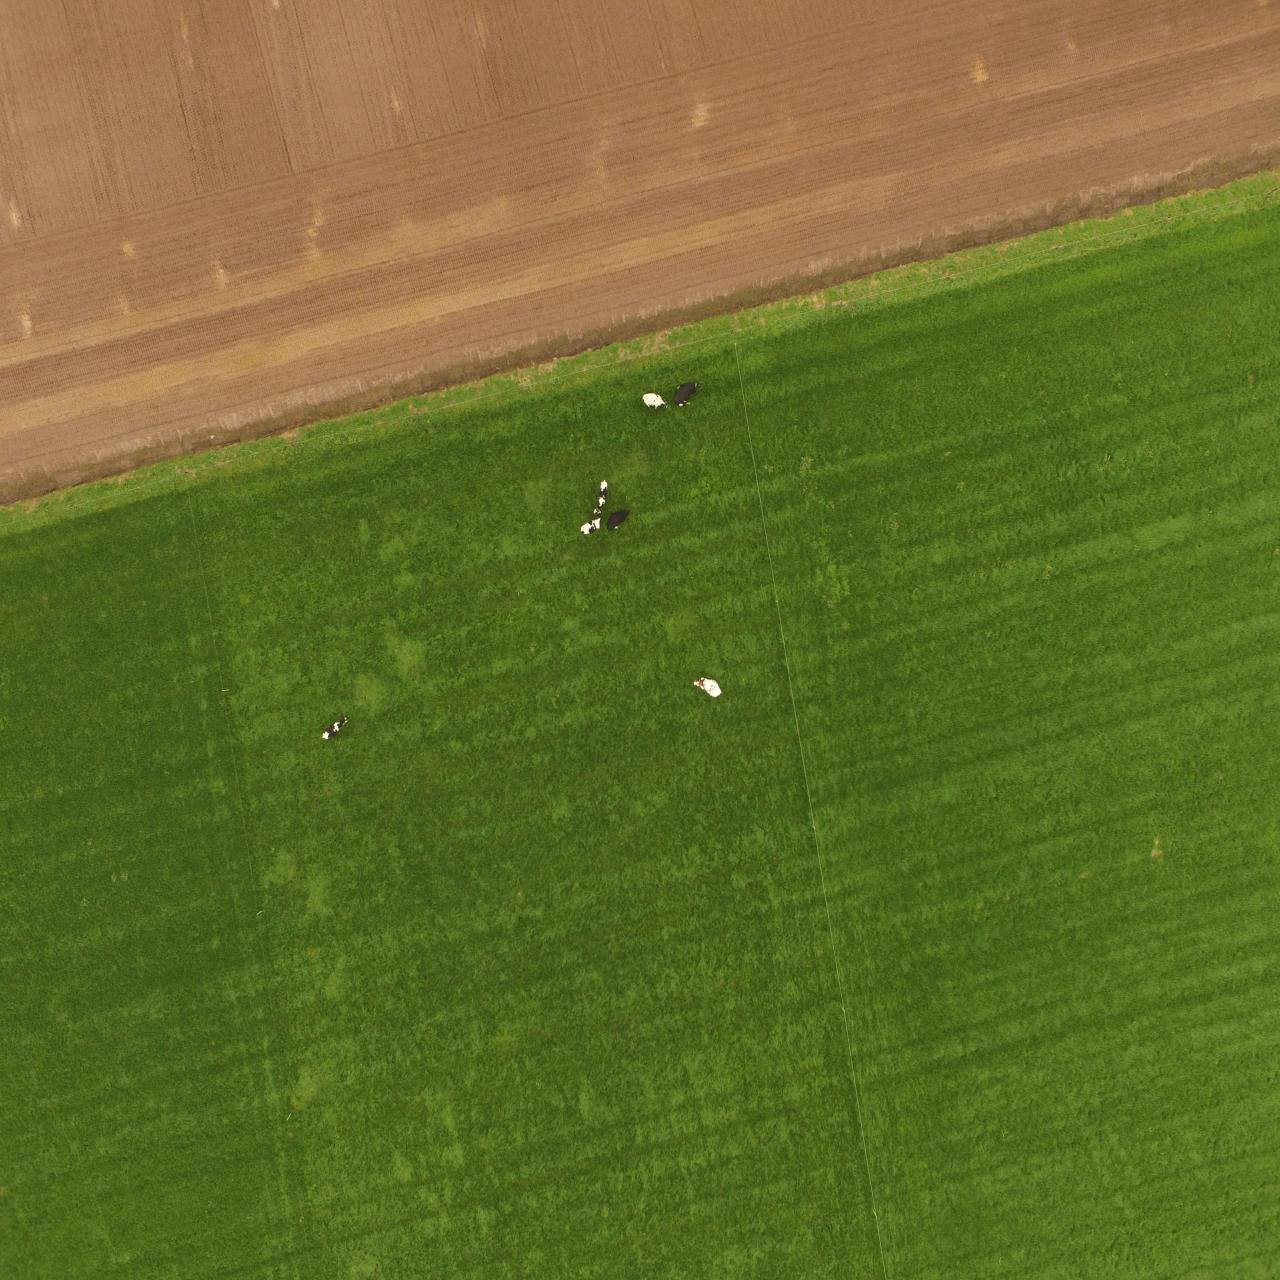cow: (669, 377, 703, 409), (320, 713, 349, 741), (689, 676, 726, 697), (642, 392, 670, 411), (595, 478, 612, 512), (610, 508, 632, 532), (577, 520, 602, 535)
